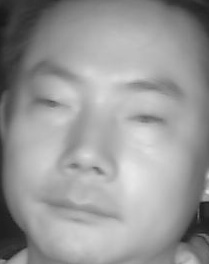eye: (125, 106, 166, 131), (34, 91, 69, 115)
mouth: (43, 185, 123, 228)
